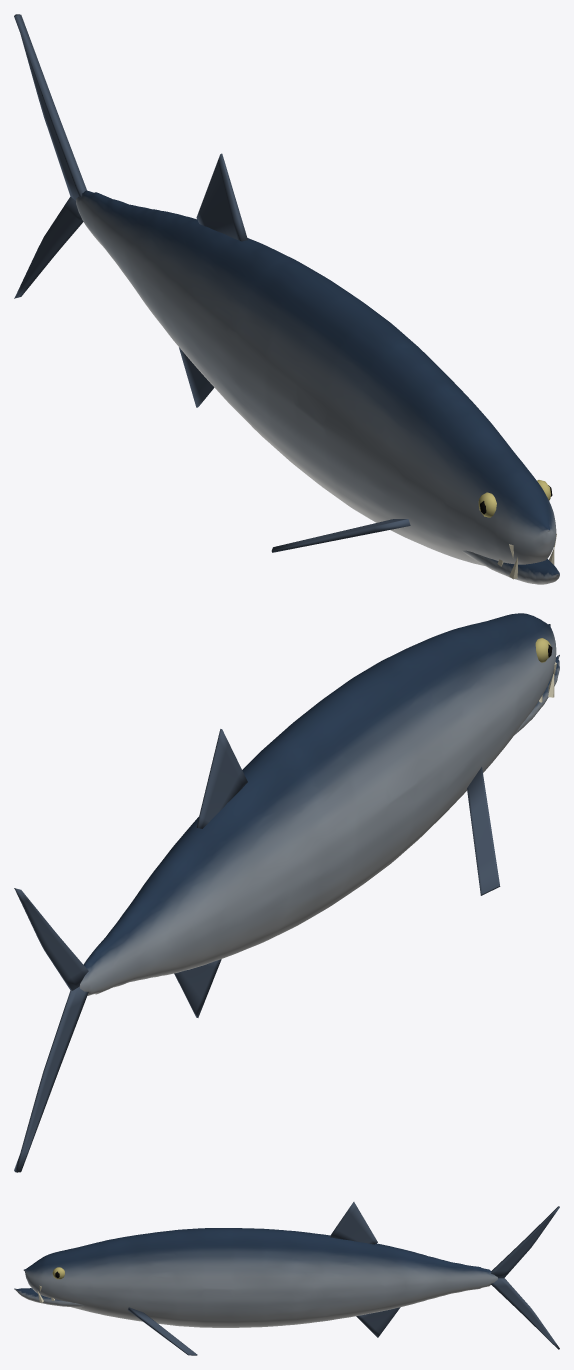
The model's file is Xiphactinus.fbx.
3 renders of one model, top to bottom at view 1: azimuth 30°, elevation 25°; view 2: azimuth 150°, elevation 25°; view 3: azimuth 270°, elevation 25°, orthographic. The views are drawn at different scales.
Visible parts, largest first — view 1: Xiphactinus; view 2: Xiphactinus; view 3: Xiphactinus.
Part boxes in pixels (x1,y1,x2,y2): Xiphactinus: (14, 14, 559, 584); Xiphactinus: (14, 613, 559, 1172); Xiphactinus: (14, 1202, 559, 1355).
Size of the model in its own units: 0.4404 by 0.54 by 1.81.
